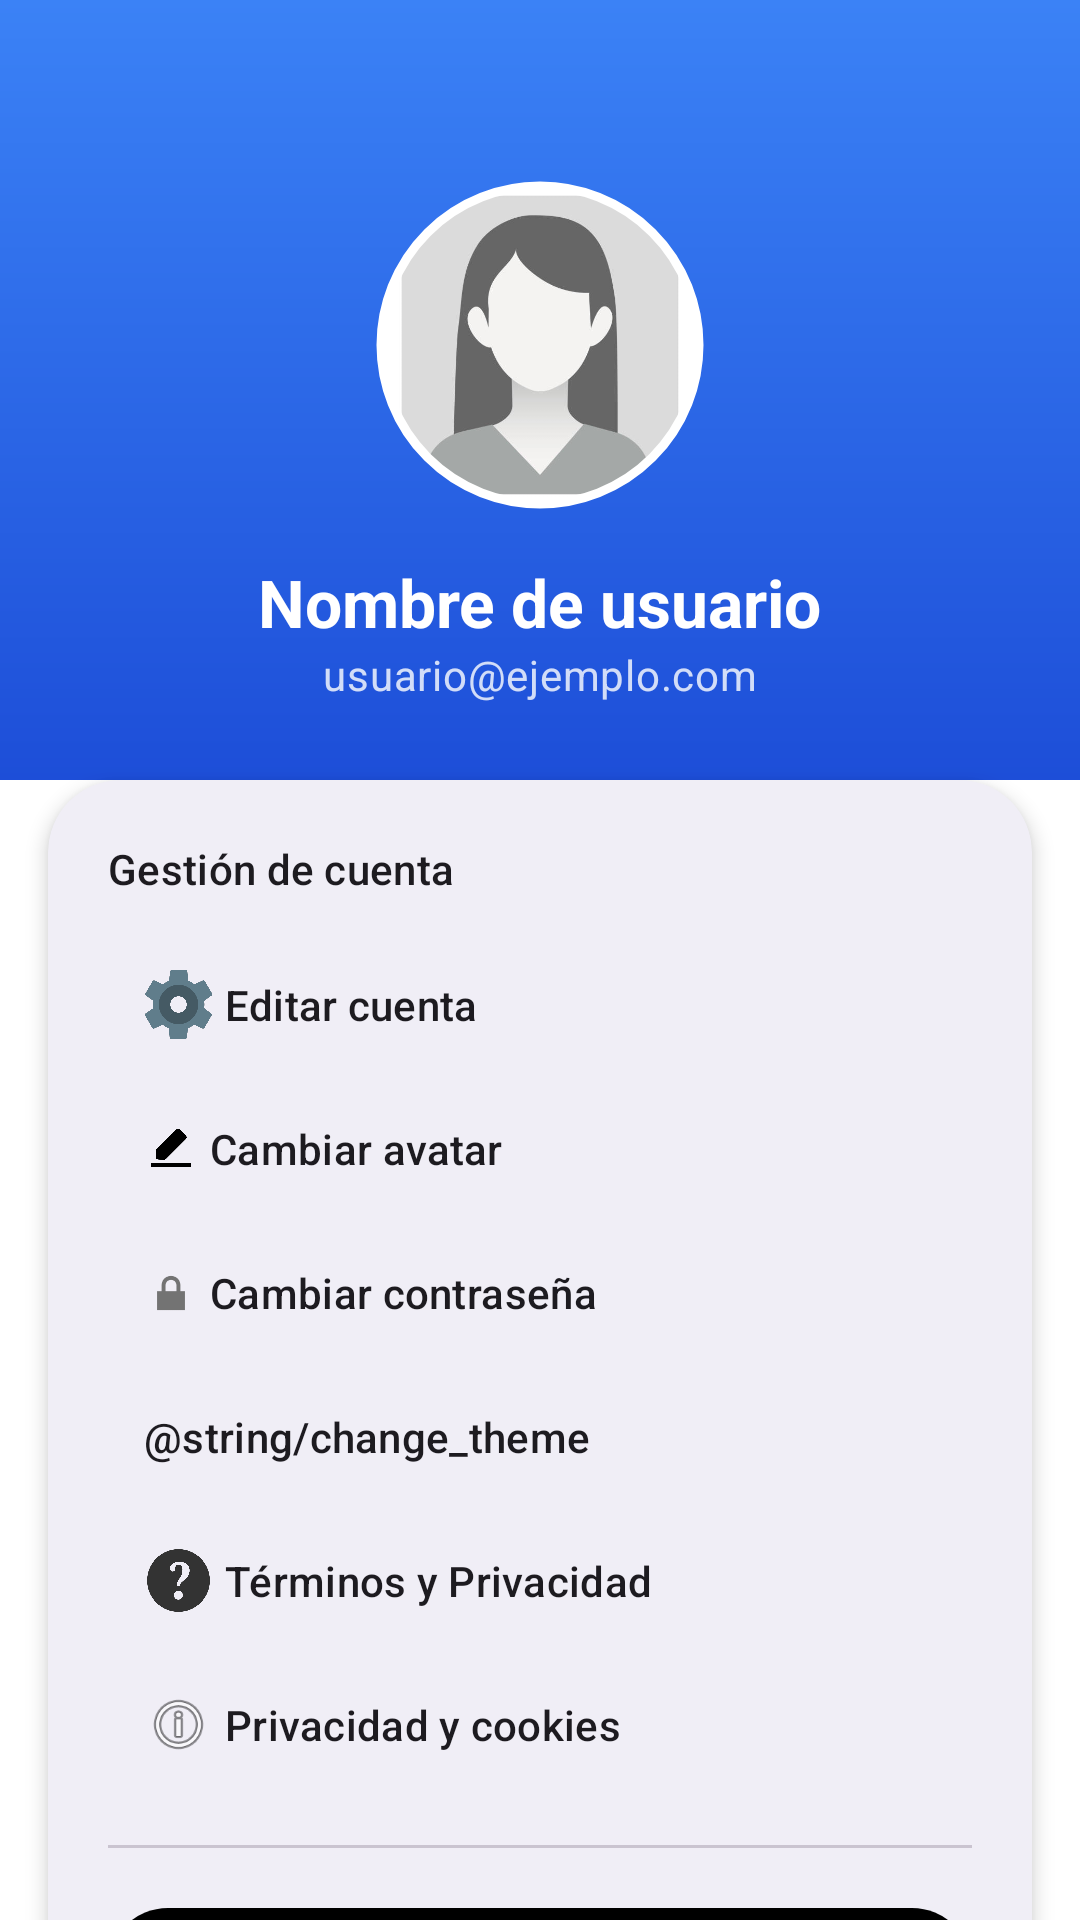

Named icons in this screenshot (1080px x 1920px) and their bounding boxes, (x1, y1, x2, y2):
user pfp: (376, 181, 704, 509)
